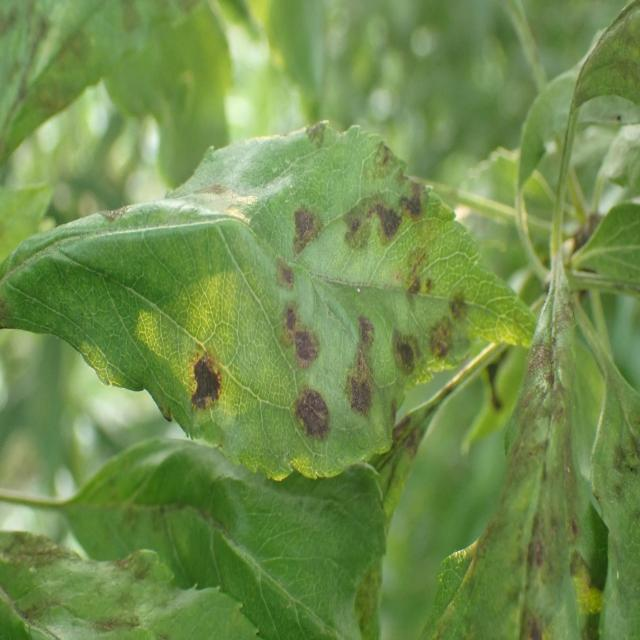scab: (76, 126, 507, 481), (454, 240, 604, 637), (0, 471, 302, 640), (561, 0, 640, 161), (613, 334, 640, 640)
